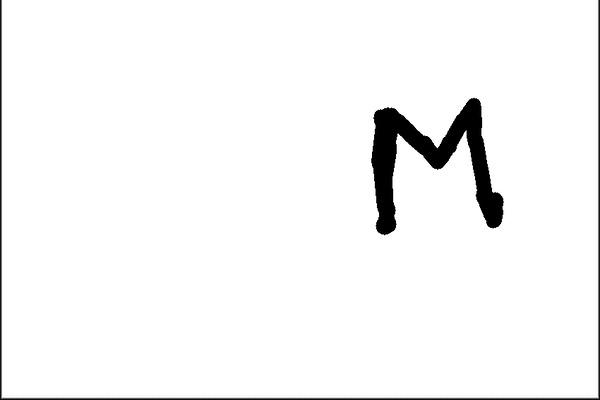M: (366, 95, 506, 230)
